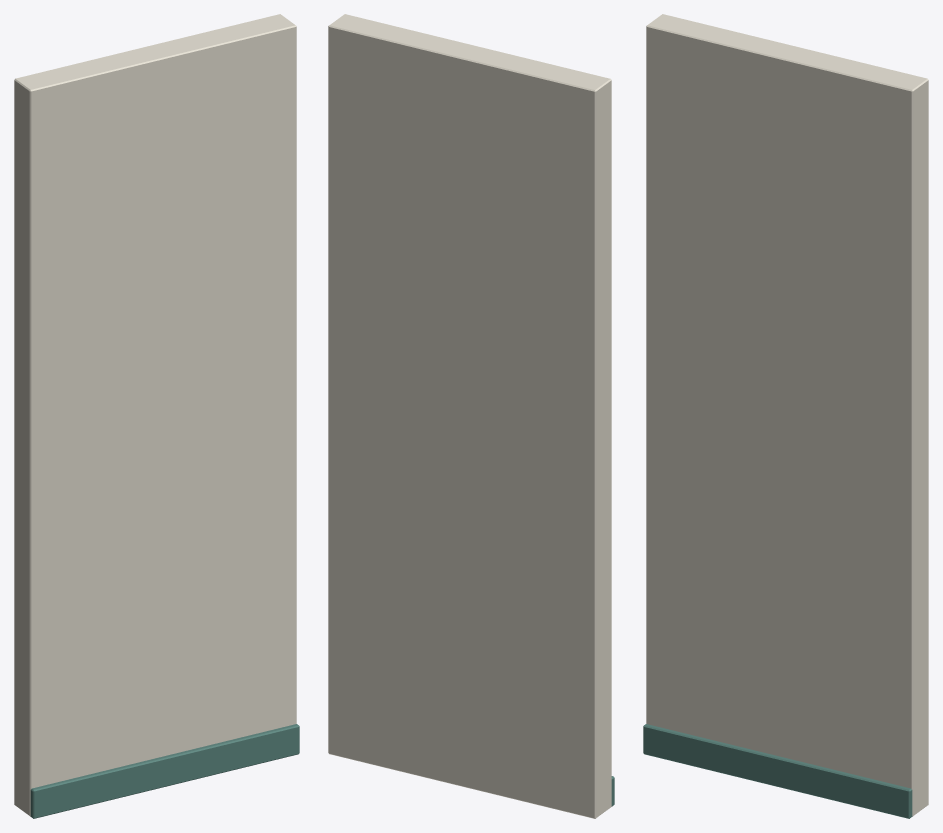
File: Structure-Wall.fbx
3 views of the same model, side by side, from view 1: azimuth 30°, elevation 25°; view 2: azimuth 150°, elevation 25°; view 3: azimuth 330°, elevation 25° (orthographic).
Visible parts, largest first — view 1: Wall Core, Skirting; view 2: Wall Core; view 3: Wall Core, Skirting.
Boxes of the visible parts, x1,y1,x2,y2 form: Wall Core: [14, 14, 296, 816]; Skirting: [30, 724, 299, 818]; Wall Core: [328, 14, 611, 818]; Wall Core: [646, 14, 928, 816]; Skirting: [643, 724, 912, 818].
Bounding box in the file's own units: 1 × 2.6 × 0.127.
